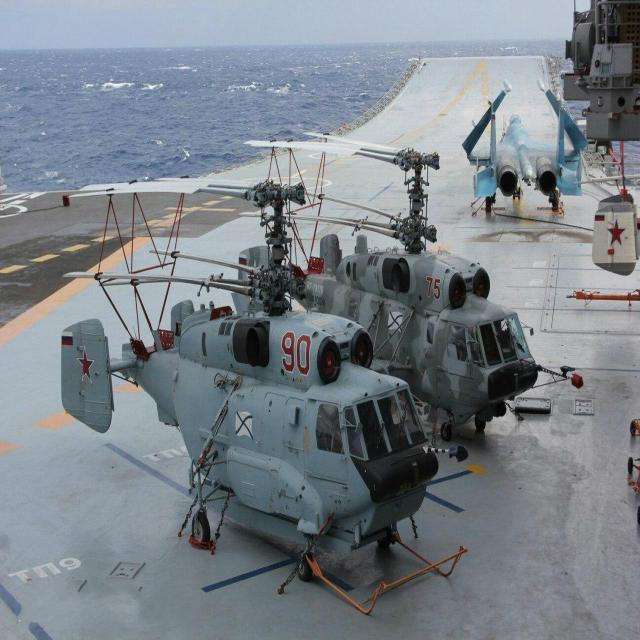MIL_HELO: (33, 142, 457, 572), (234, 93, 548, 450)
